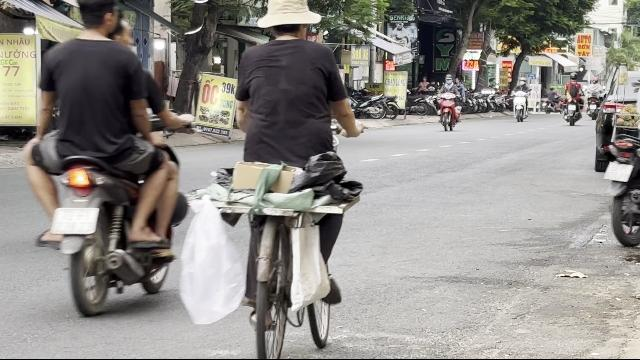licenseplate: (51, 207, 99, 233), (604, 162, 632, 182)
motorcyclist: (16, 0, 195, 316)
